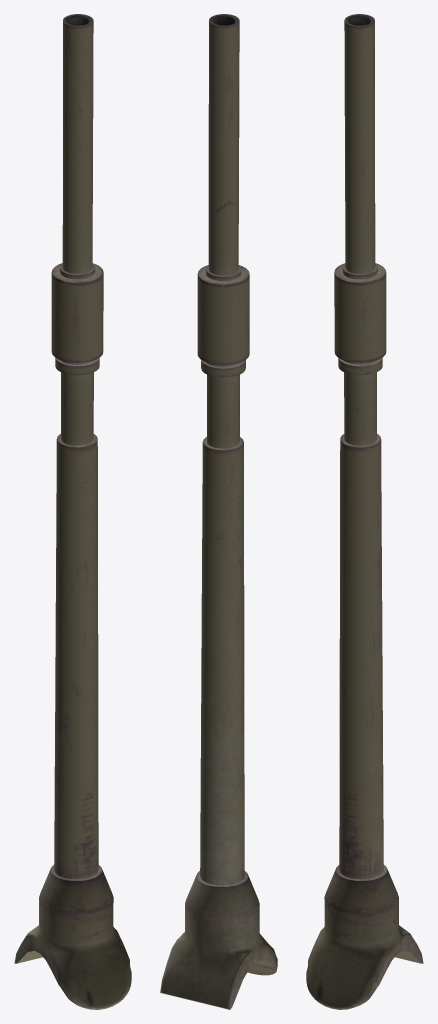
File: Gun_01.glb
The picture shows the model from 3 angles, left to right: view 1: azimuth 30°, elevation 25°; view 2: azimuth 150°, elevation 25°; view 3: azimuth 330°, elevation 25°; orthographic projection.
Visible parts, largest first — view 1: set_0_group_0; view 2: set_0_group_0; view 3: set_0_group_0.
Part boxes in pixels (x1,y1,x2,y2): set_0_group_0: (14, 14, 131, 1009); set_0_group_0: (160, 14, 277, 1009); set_0_group_0: (306, 14, 423, 1009).
Bounding box in the file's own units: 0.4433 × 5.88 × 0.6319.
1 material, 1 textured.
